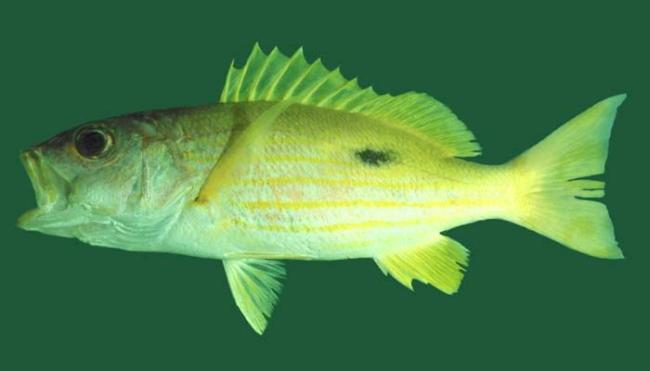fish: (13, 41, 629, 337)
